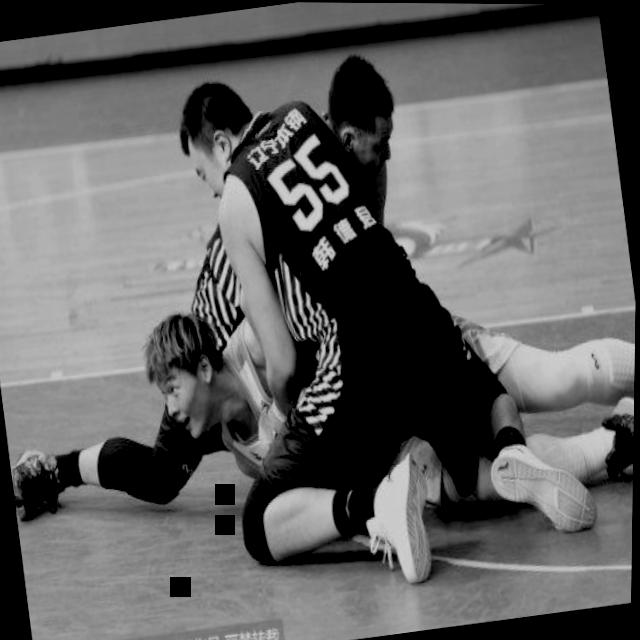Fall-Detected: (111, 6, 640, 580)
